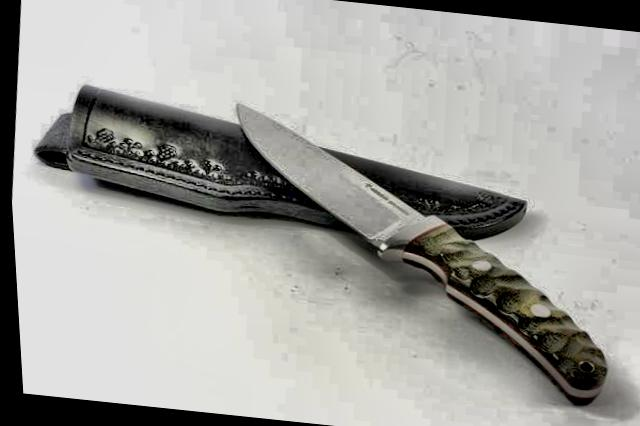knife: (212, 93, 451, 271)
